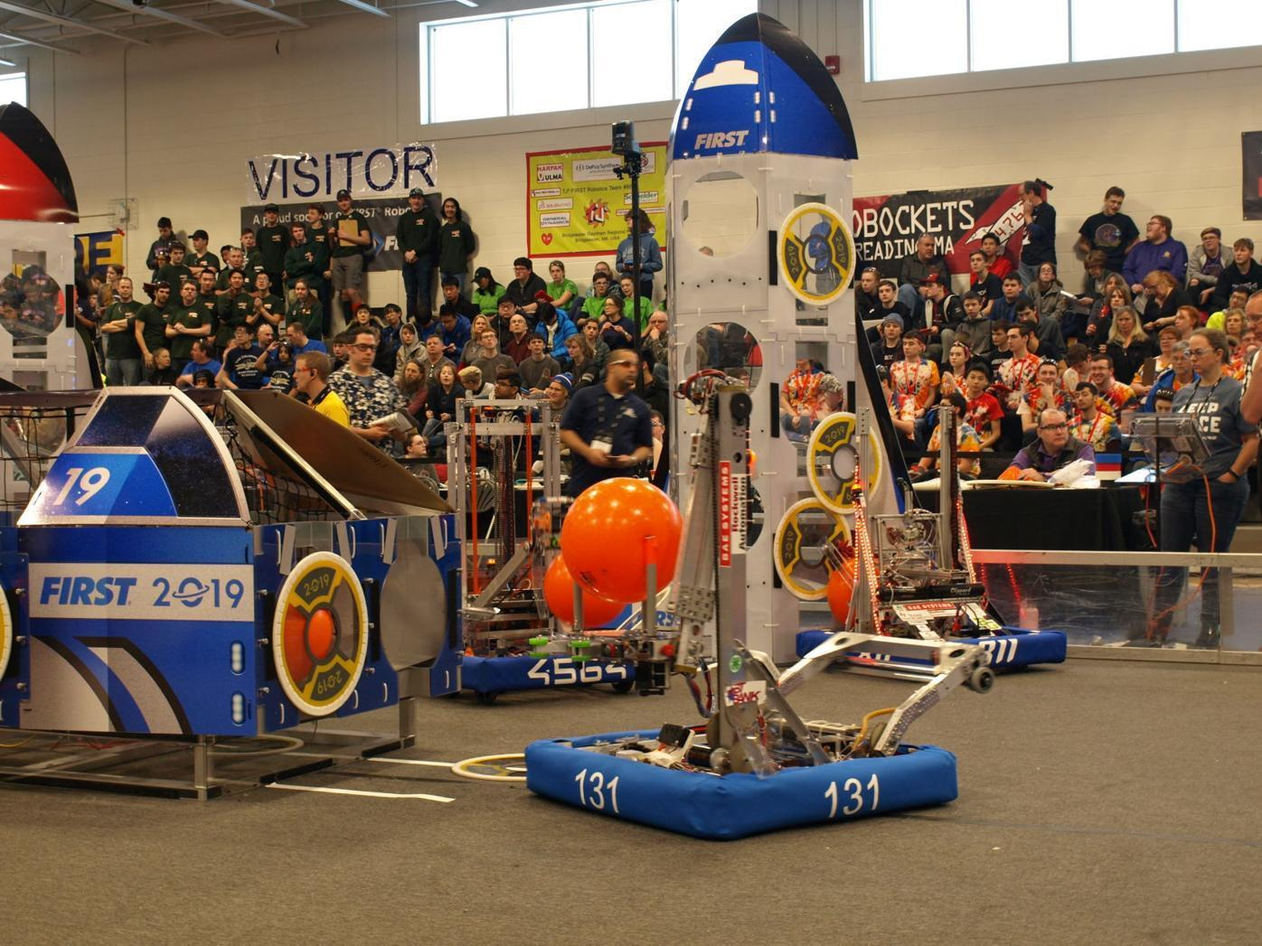robot: (518, 367, 1000, 839), (781, 386, 1074, 689), (409, 387, 648, 705)
